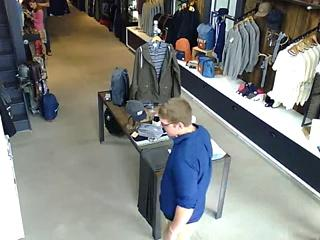Normal: (158, 98, 214, 240), (36, 0, 52, 56)
